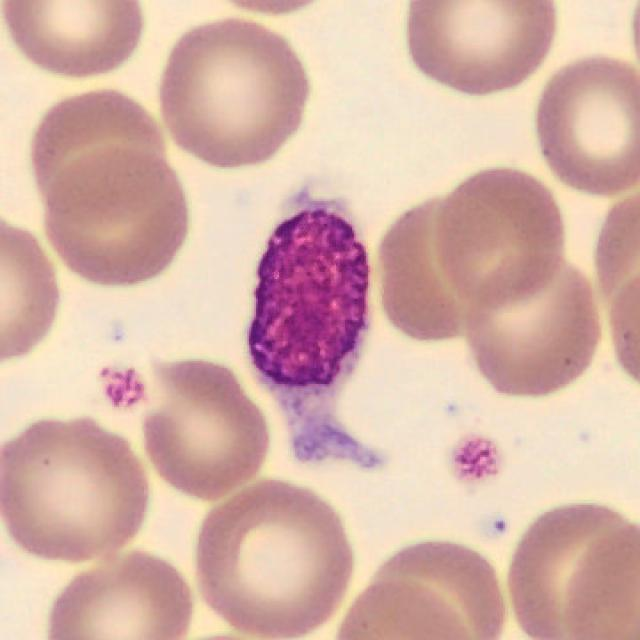Linfocito: (249, 208, 379, 466)
